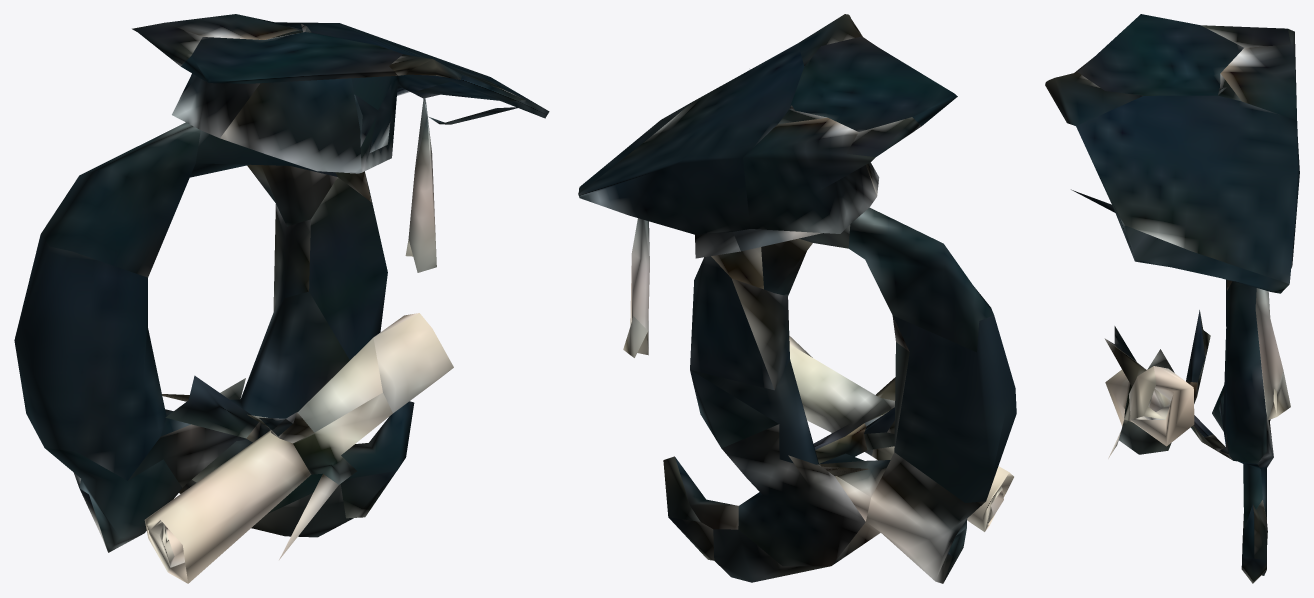
The picture shows the model from 3 angles, left to right: view 1: azimuth 30°, elevation 25°; view 2: azimuth 150°, elevation 25°; view 3: azimuth 270°, elevation 25°; orthographic projection. The views are drawn at different scales.
Parts seen in each view (by area): view 1: Graduation-Q; view 2: Graduation-Q; view 3: Graduation-Q.
Part boxes in pixels (box(x1,y1,x2,y2)): Graduation-Q: box(14, 14, 549, 583); Graduation-Q: box(578, 14, 1016, 583); Graduation-Q: box(1045, 14, 1299, 583).
Size of the model in its own units: 0.256 by 0.2839 by 0.1325.
1 material, 1 textured.
